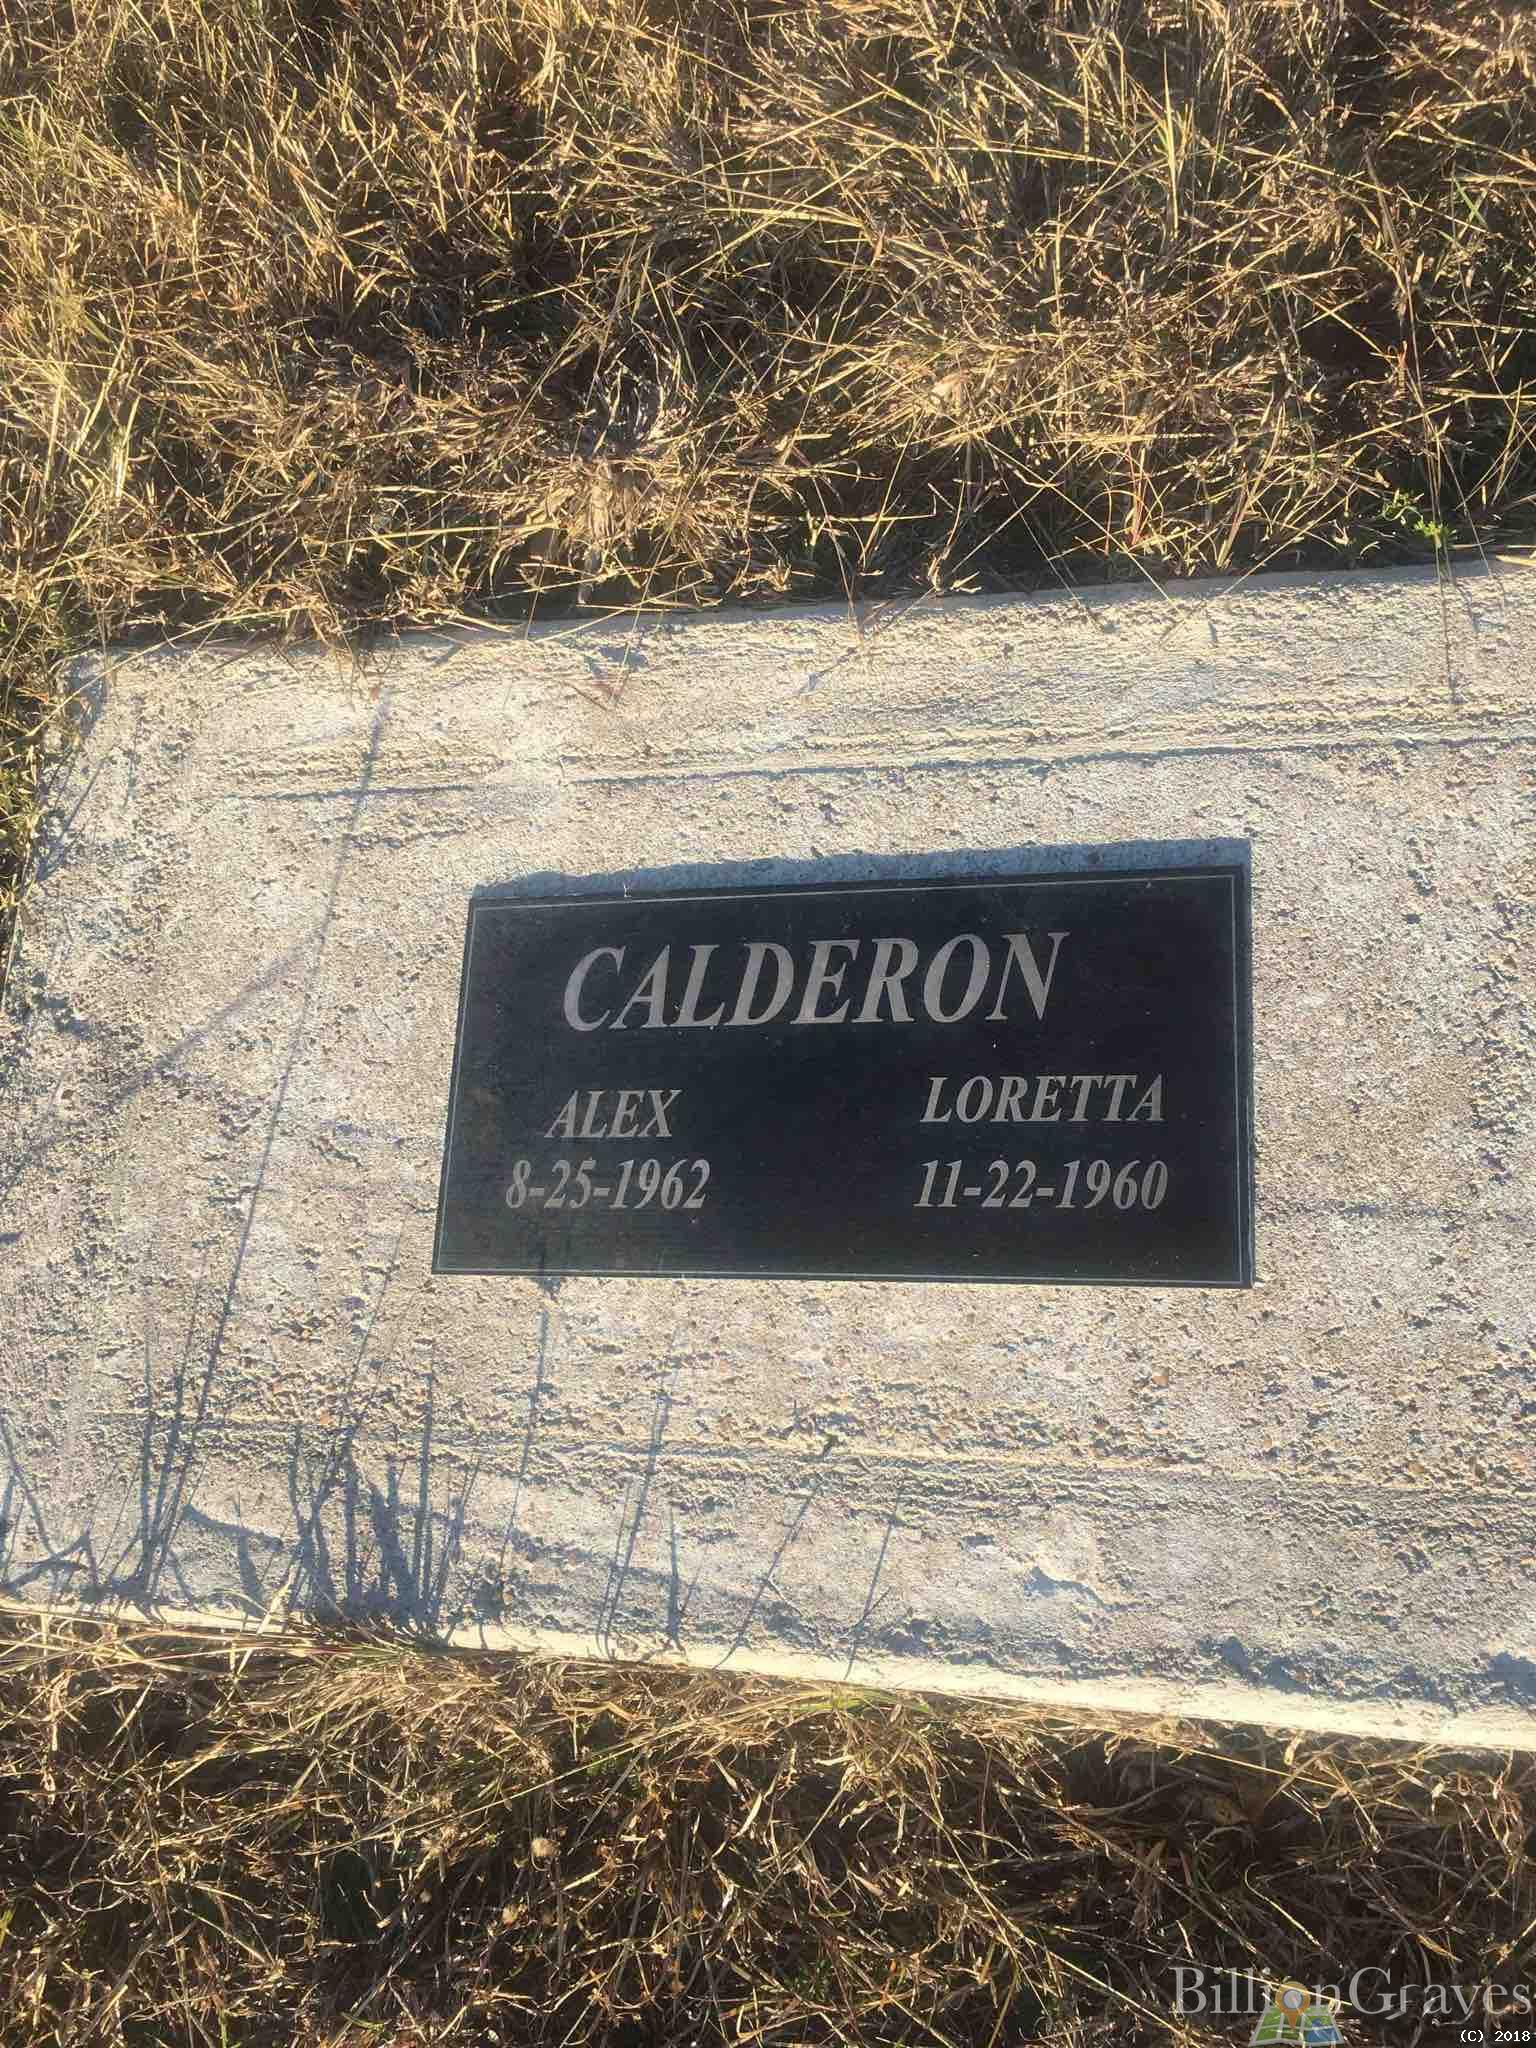flat: (431, 847, 1268, 1288)
